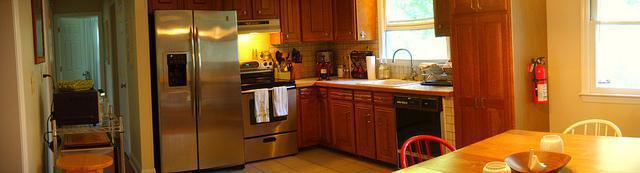Lavaplatos: (355, 48, 422, 89)
